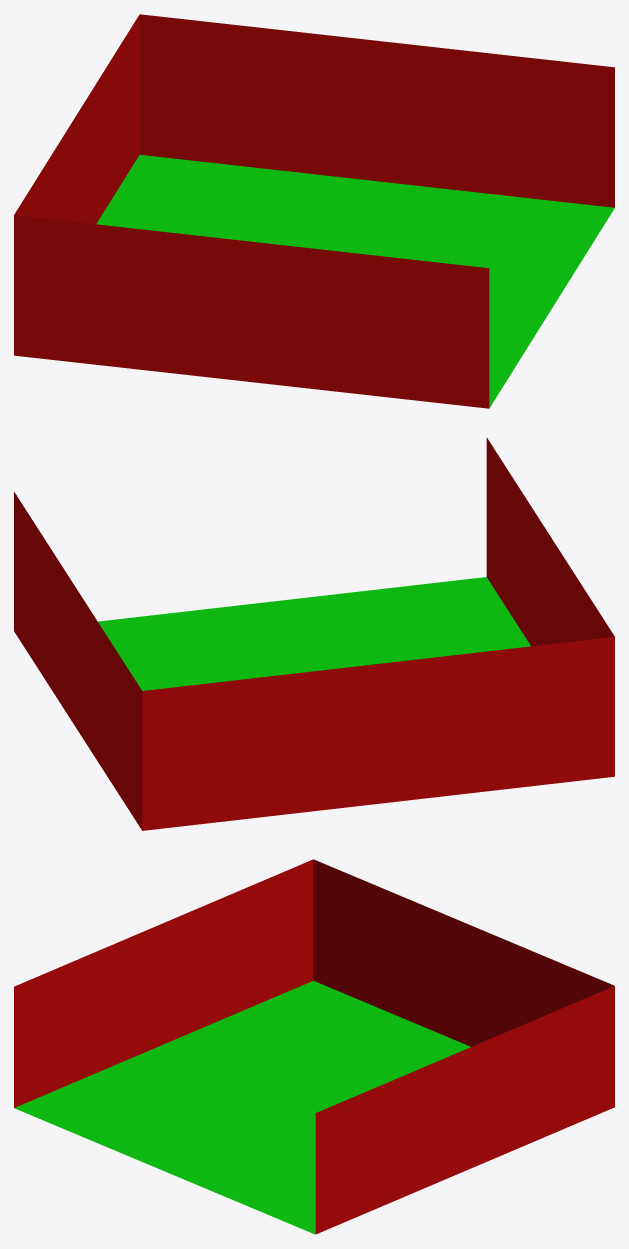
Rendered from Ball.FBX.
3 renders of one model, top to bottom at view 1: azimuth 30°, elevation 25°; view 2: azimuth 150°, elevation 25°; view 3: azimuth 270°, elevation 25°, orthographic. The views are drawn at different scales.
Visible parts, largest first — view 1: Ball; view 2: Ball; view 3: Ball.
Part boxes in pixels (<box>): Ball: <box>14,14,614,408</box>; Ball: <box>14,437,614,830</box>; Ball: <box>14,859,614,1234</box>.
Bounding box in the file's own units: 1126 × 1126 × 251.
